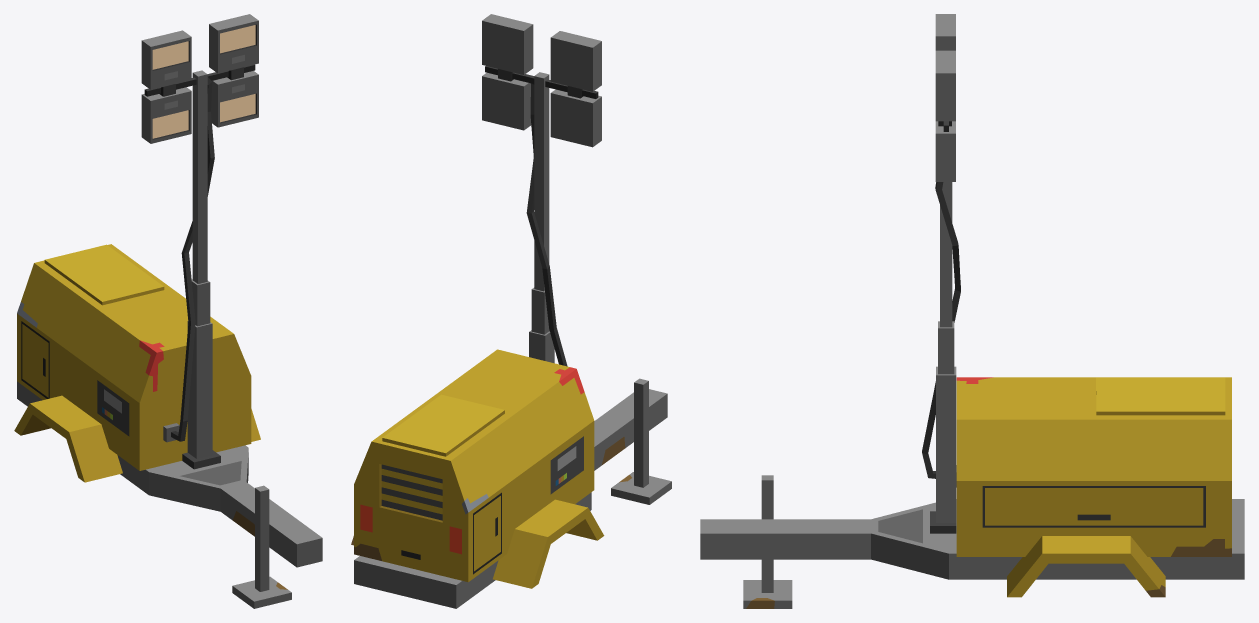
File: SA_Prop_FloodLight_01.glb
The picture shows the model from 3 angles, left to right: view 1: azimuth 30°, elevation 25°; view 2: azimuth 150°, elevation 25°; view 3: azimuth 270°, elevation 25°; orthographic projection. The views are drawn at different scales.
Parts seen in each view (by area): view 1: SA_Prop_FloodLight_01; view 2: SA_Prop_FloodLight_01; view 3: SA_Prop_FloodLight_01.
Boxes of the visible parts, x1,y1,x2,y2 form: SA_Prop_FloodLight_01: (14, 14, 322, 608); SA_Prop_FloodLight_01: (351, 14, 671, 608); SA_Prop_FloodLight_01: (700, 14, 1244, 608).
Bounding box in the file's own units: 1.12 × 3.04 × 2.66.
1 material, 1 textured.
